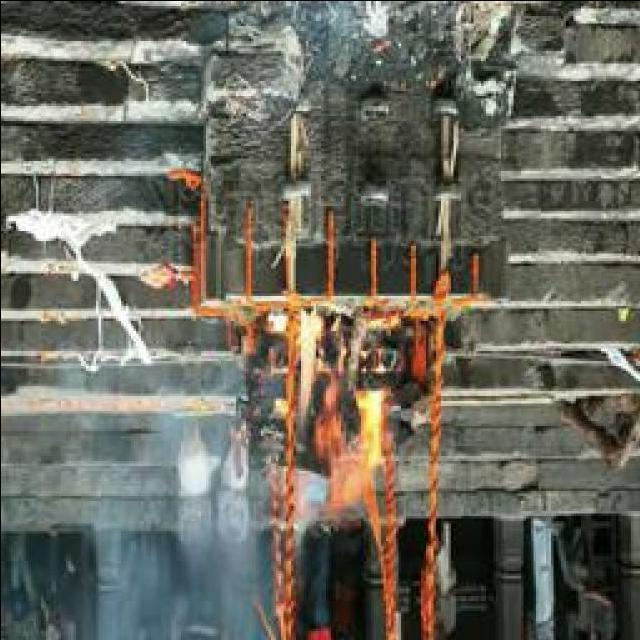Fire: (289, 304, 391, 526)
